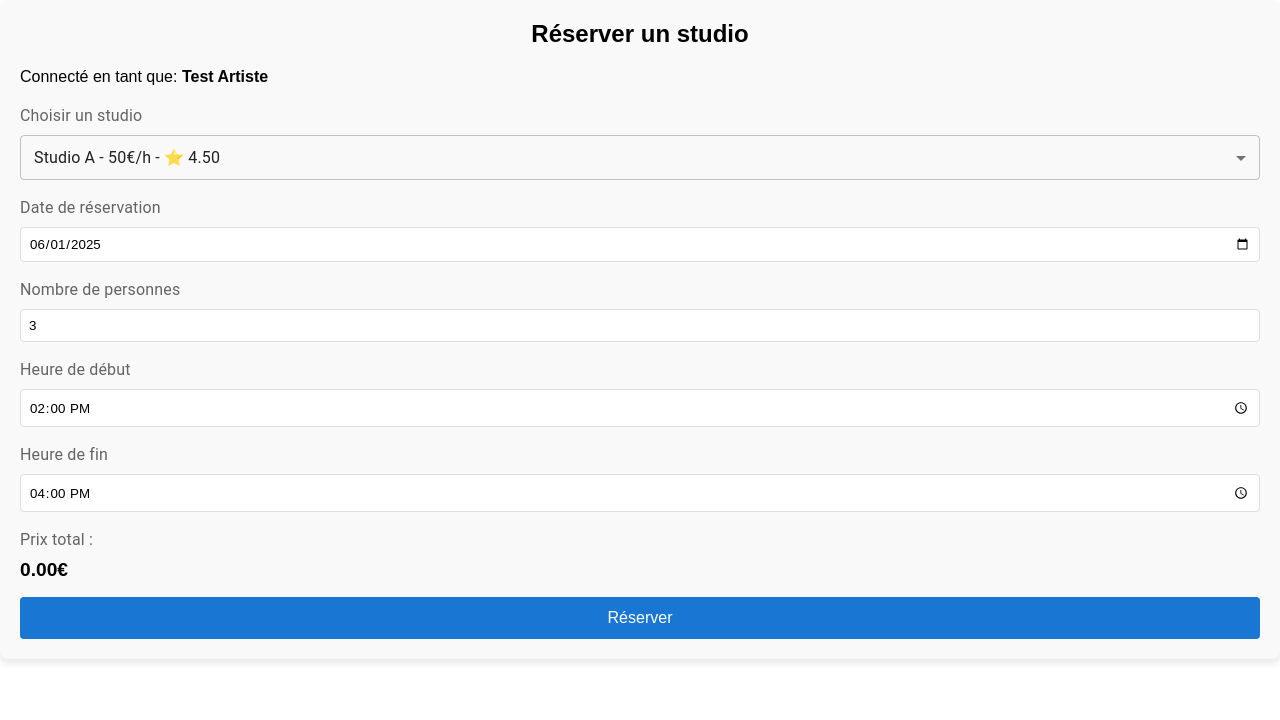
Test: ReservationForm › désactive le bouton pendant la soumission
The width and height of the screenshot is (1280, 720).
Expected: the heading "Réserver un studio" is shown, x1=531 y1=20 x2=749 y2=47
Click the button "Réserver" at (640, 618), box x1=20 y1=597 x2=1260 y2=639
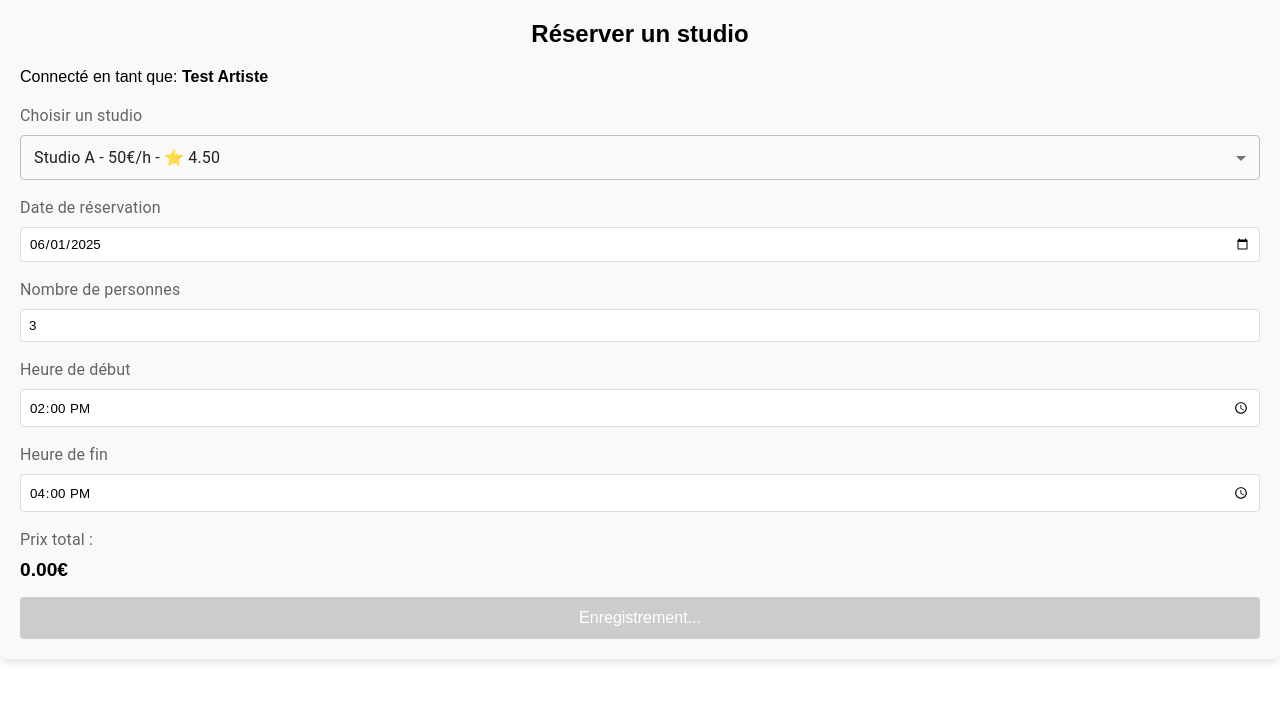
Expected: the button named "Réserver" is disabled, x1=20 y1=597 x2=1260 y2=639
